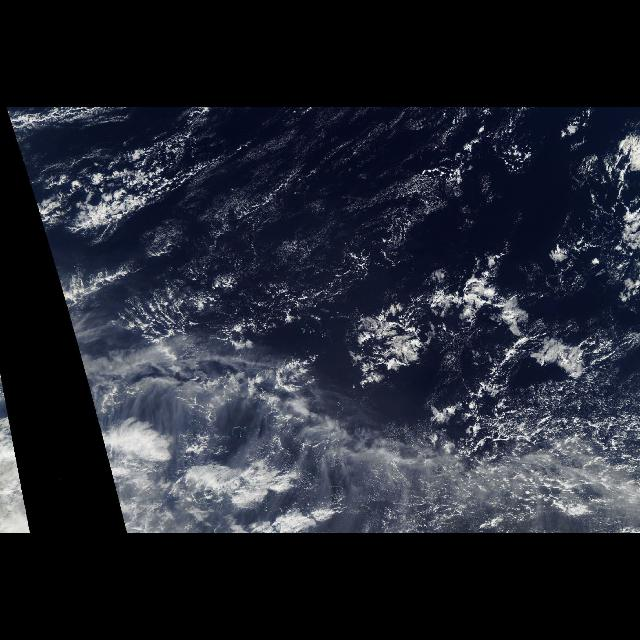Gravel: (430, 401, 640, 534)
Sugar: (154, 115, 470, 318), (426, 363, 640, 533)
